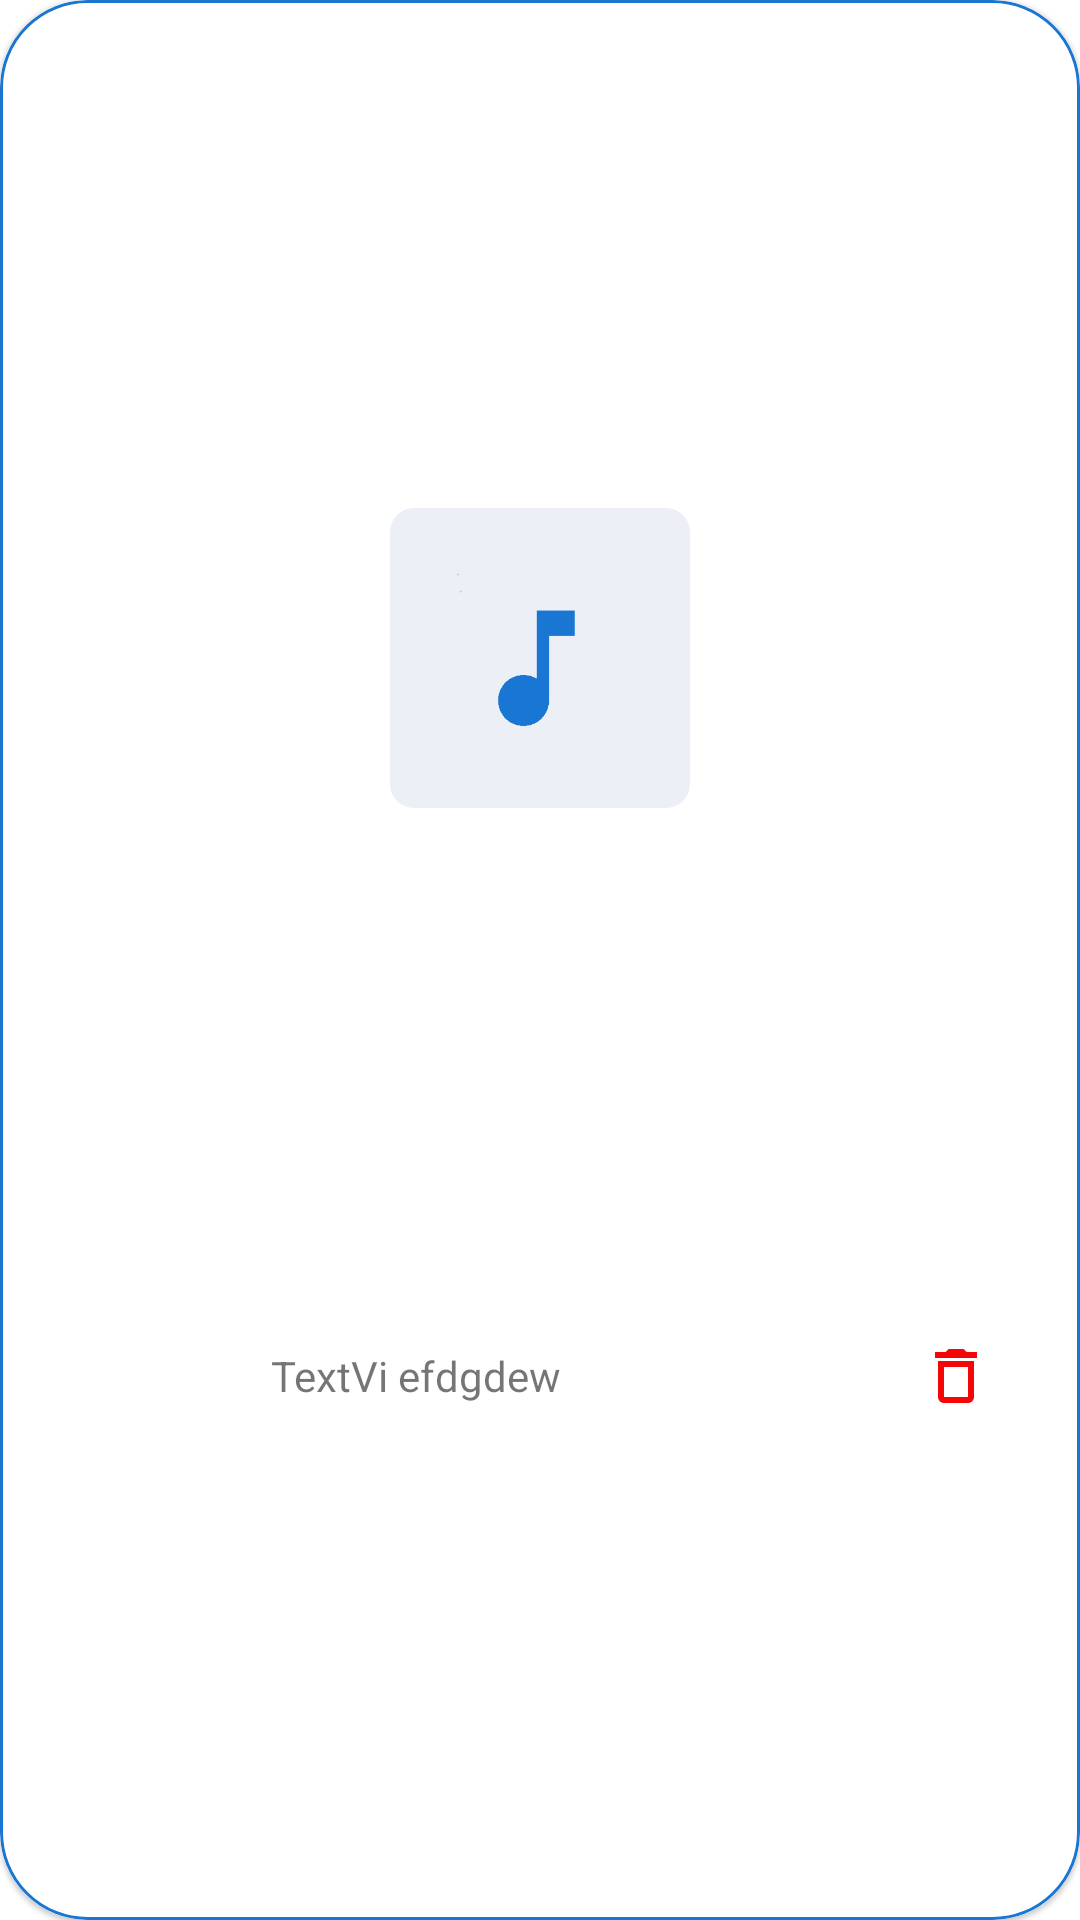

Named icons in this screenshot (1080 × 1920) and their centers, point (x, y):
delete: point (956, 1376)
player: point (540, 658)
